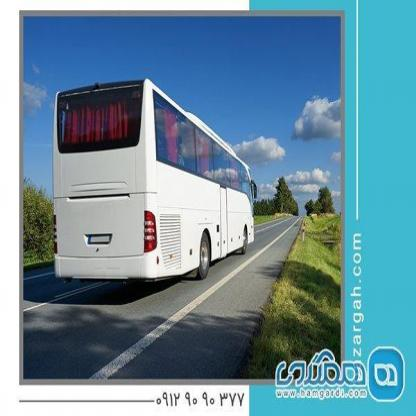Bus: (51, 74, 262, 295)
